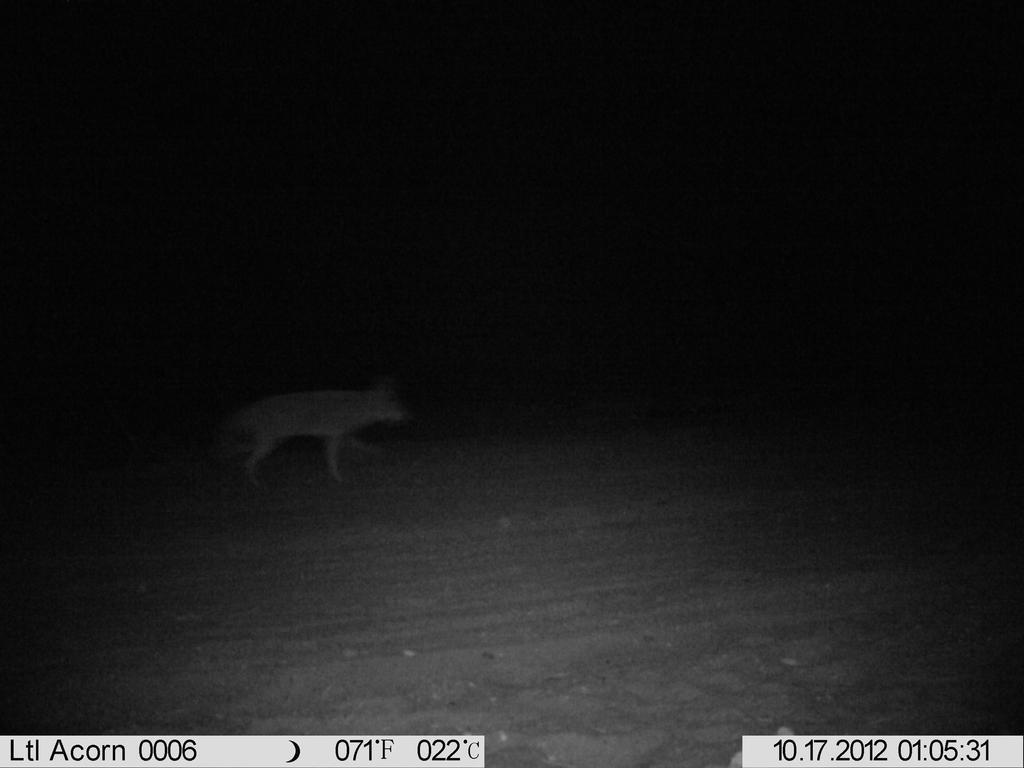coyote: (207, 375, 417, 500)
